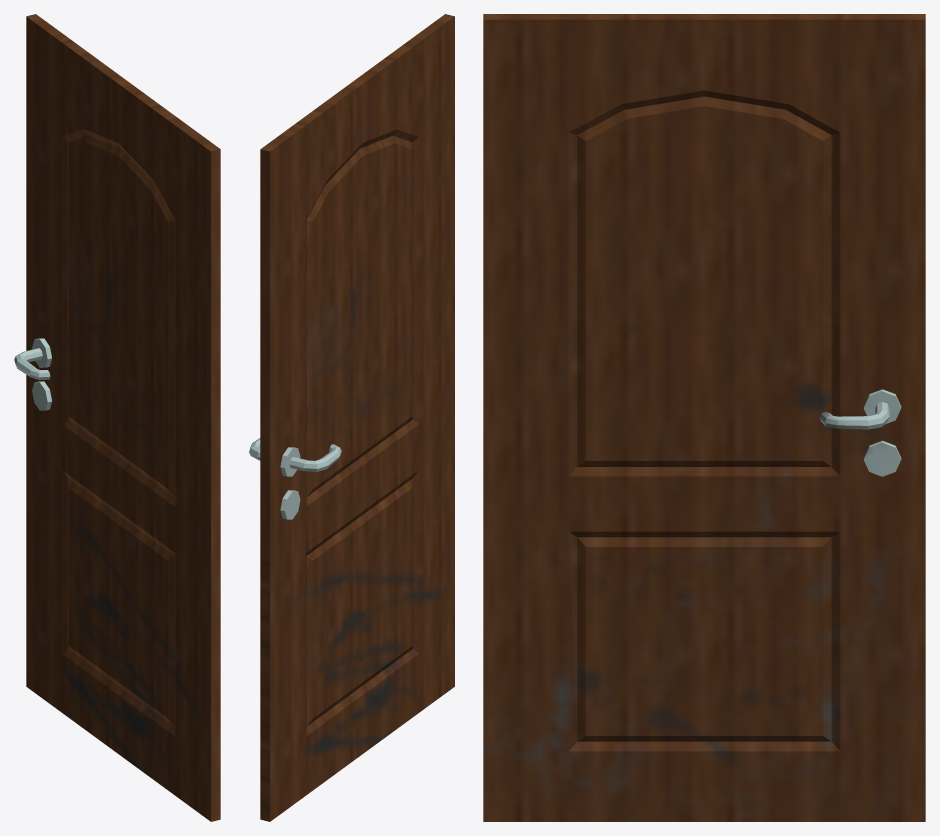
The model's file is Door 2x1.fbx.
The picture shows the model from 3 angles, left to right: view 1: azimuth 30°, elevation 25°; view 2: azimuth 150°, elevation 25°; view 3: azimuth 270°, elevation 25°; orthographic projection. The views are drawn at different scales.
Parts seen in each view (by area): view 1: Door 2 x 1; view 2: Door 2 x 1; view 3: Door 2 x 1.
Part boxes in pixels (x1,y1,x2,y2): Door 2 x 1: (14,14,220,821); Door 2 x 1: (249,14,454,821); Door 2 x 1: (483,14,925,821).
Size of the model in its own units: 24.31 by 200 by 100.
Materials: 1 (1 with a texture image).
